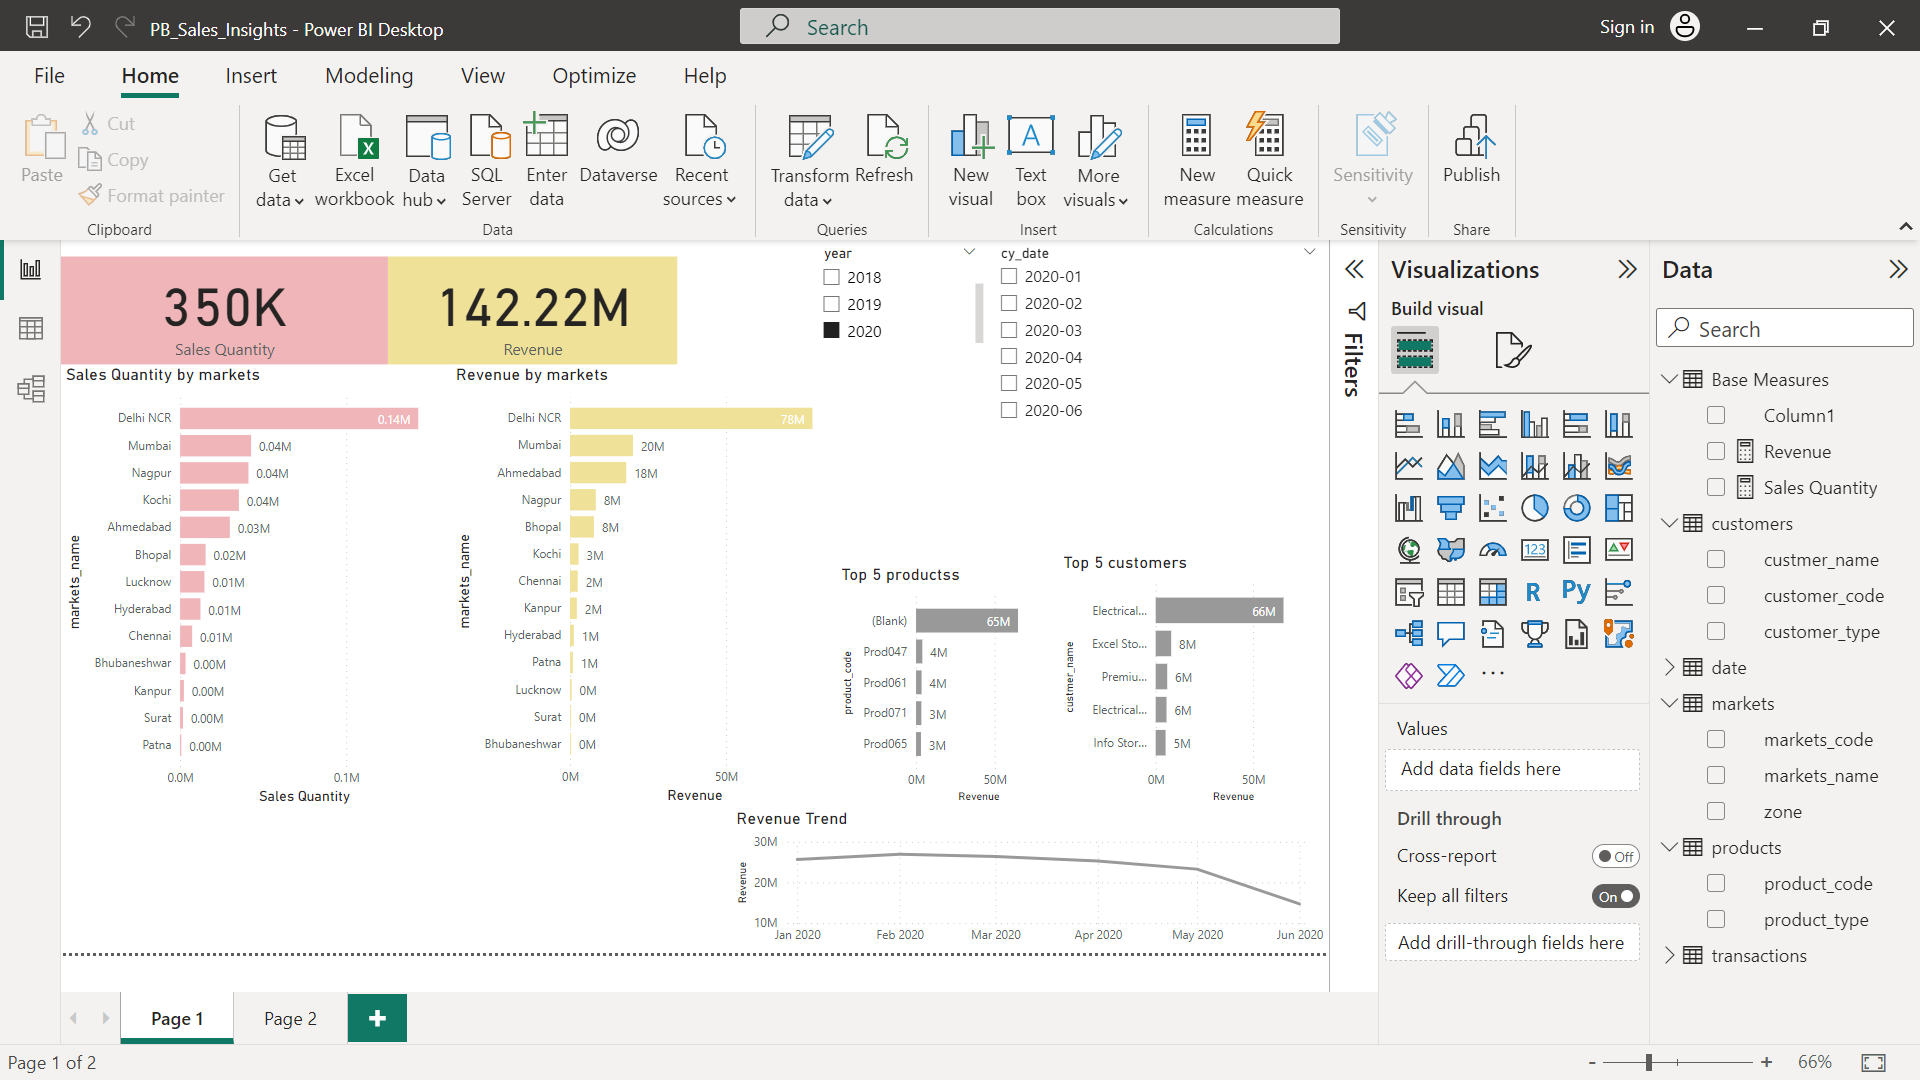

This screenshot's page, from the dashboard's own definition file:
{"tool":"powerbi","page":{"name":"Page 1","canvas":[1280,720],"ordinal":0},"visuals":[{"type":"card","fields":{"Values":["Base Measures.Revenue"]},"box":[0,13.6,292.2,109],"z":0},{"type":"card","fields":{"Values":["Base Measures.Sales Quantity"]},"box":[292.2,13.6,330.1,109],"z":1000},{"type":"slicer","fields":{"Values":["date.year"]},"box":[757.1,0,178.7,137.8],"z":4000},{"type":"slicer","fields":{"Values":["date.cy_date"]},"box":[935.8,0,343.7,245.3],"z":5000},{"type":"barChart","title":"Top 5 customers","fields":{"Y":["Base Measures.Revenue"],"Category":["customers.custmer_name"]},"box":[1006.9,274.1,272.6,257.4],"z":6000},{"type":"barChart","title":"Top 5 productss","fields":{"Y":["Base Measures.Revenue"],"Category":["products.product_code"]},"box":[782.8,286.2,224.1,245.3],"z":7000},{"type":"lineChart","title":"Revenue Trend","fields":{"Y":["Base Measures.Revenue"],"Category":["date.cy_date.Variation.Date Hierarchy.Year","date.cy_date.Variation.Date Hierarchy.Quarter","date.cy_date.Variation.Date Hierarchy.Month","date.cy_date.Variation.Date Hierarchy.Day"]},"box":[676.8,573.9,602.7,145.4],"z":8000},{"type":"barChart","title":"Revenue By Markets","fields":{"Category":["markets.markets_name"],"Y":["Base Measures.Revenue"]},"box":[0,172.6,330.1,387.6],"z":8001},{"type":"barChart","title":"Sales Quantity By Markets","fields":{"Category":["markets.markets_name"],"Y":["Base Measures.Sales Quantity"]},"box":[330.1,172.6,330.1,387.6],"z":8002}]}

Visuals, with their boxes on the page's 1280x720 design canvas (x1, y1, x2, y2). These are canvas units, not pixel positions in the 1920x1080 screenshot, which may show the page scaled, cropped or inside an application window:
card - Base Measures.Revenue: <region>0, 14, 292, 123</region>
card - Base Measures.Sales Quantity: <region>292, 14, 622, 123</region>
slicer - date.year: <region>757, 0, 936, 138</region>
slicer - date.cy_date: <region>936, 0, 1280, 245</region>
"Top 5 customers" barChart: <region>1007, 274, 1280, 532</region>
"Top 5 productss" barChart: <region>783, 286, 1007, 532</region>
"Revenue Trend" lineChart: <region>677, 574, 1280, 719</region>
"Revenue By Markets" barChart: <region>0, 173, 330, 560</region>
"Sales Quantity By Markets" barChart: <region>330, 173, 660, 560</region>
